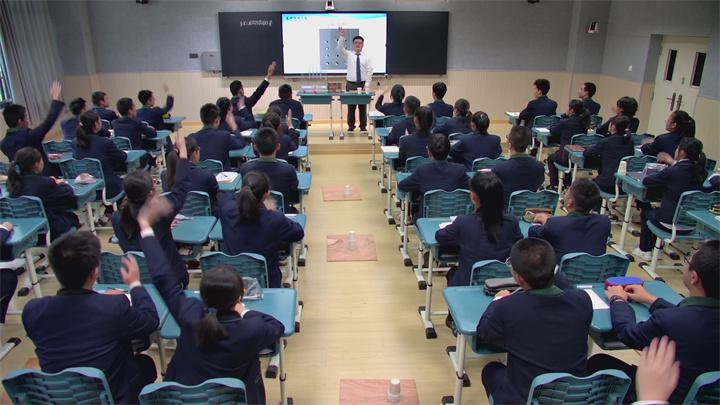hands-up: (25, 225, 151, 351), (117, 134, 186, 233), (3, 80, 69, 146), (193, 99, 242, 146), (225, 59, 273, 103), (264, 110, 302, 146)
listen: (488, 246, 595, 373), (614, 240, 720, 336), (447, 176, 521, 245), (534, 181, 616, 241), (651, 140, 720, 194), (404, 134, 462, 197), (489, 121, 543, 186), (584, 115, 633, 159), (656, 105, 706, 143), (512, 79, 555, 111), (579, 81, 604, 116), (424, 81, 451, 111)
